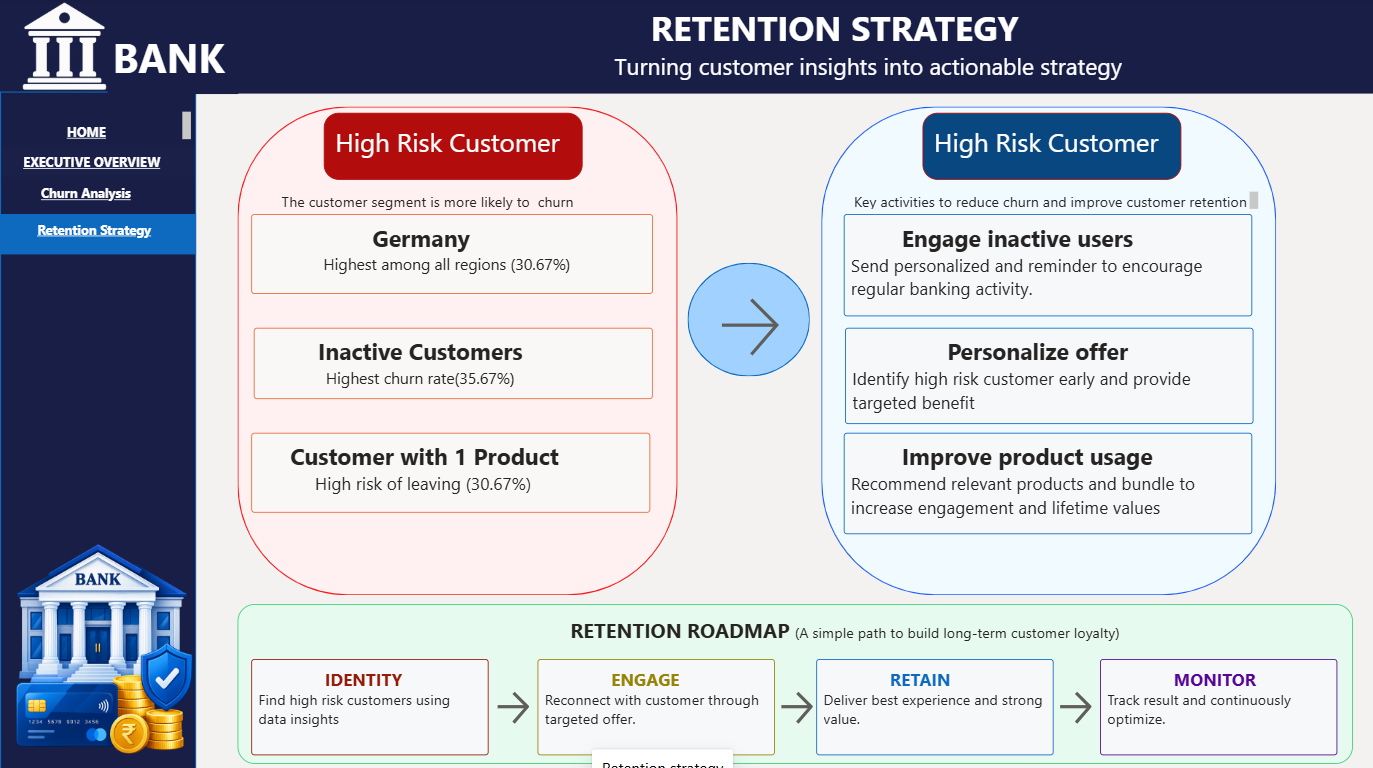

Layout of this report page (visuals, bound fields, positions):
{"tool":"powerbi","page":{"name":"Retention strategy","canvas":[1280,720],"ordinal":3},"visuals":[{"type":"textbox","box":[0,0,1280,87.7],"z":0},{"type":"shape","box":[0,86,182.6,633.7],"z":1000},{"type":"textbox","box":[99.7,24,121.3,63.6],"z":2000},{"type":"image","box":[0,0,120.1,87.7],"z":3000},{"type":"textbox","box":[0,100,182.6,37.2],"z":4000},{"type":"textbox","box":[0,137.2,182.6,29.1],"z":5000},{"type":"textbox","box":[0,166.3,182.6,33.7],"z":6000},{"type":"textbox","box":[0,200,182.6,37.2],"z":7000},{"type":"image","box":[0,459.9,190.9,260.6],"z":8000},{"type":"shape","box":[220.9,100,409.3,454.7],"z":9000},{"type":"textbox","box":[301.2,105.8,240.7,62.8],"z":10000},{"type":"textbox","box":[257,174.4,300,34.9],"z":11000},{"type":"shape","box":[764,100,423.3,454.7],"z":12000},{"type":"textbox","box":[858.1,105.8,240.7,62.8],"z":13000},{"type":"textbox","box":[774.4,174.4,401.2,25.6],"z":14000},{"type":"textbox","box":[236,305.8,370.9,66.3],"z":15000},{"type":"textbox","box":[233.7,200,373.3,74.4],"z":16000},{"type":"textbox","box":[233.7,403.5,370.9,74.4],"z":17000},{"type":"shape","box":[639.5,245.3,114,105.8],"z":18000},{"type":"actionButton","box":[664,272.1,100,66.3],"z":19000},{"type":"textbox","box":[784.9,200,380.2,95.3],"z":20000},{"type":"textbox","box":[786,305.8,380.2,89.5],"z":21000},{"type":"textbox","box":[784.9,403.5,380.2,94.2],"z":22000},{"type":"textbox","box":[220.9,562.8,1037.2,148.8],"z":23000},{"type":"textbox","box":[233.7,614,220.9,89.5],"z":24000},{"type":"actionButton","box":[457,639.5,43,39.5],"z":25000},{"type":"actionButton","box":[720.9,639.5,43,39.5],"z":26000},{"type":"actionButton","box":[980.2,639.5,43,39.5],"z":27000},{"type":"textbox","box":[759.3,614,220.9,89.5],"z":28000},{"type":"textbox","box":[1023.3,614,220.9,89.5],"z":29000},{"type":"textbox","box":[500,614,220.9,89.5],"z":30000}]}

Visuals, with their boxes on the page's 1280x720 design canvas (x1, y1, x2, y2). These are canvas units, not pixel positions in the 1373x768 screenshot, which may show the page scaled, cropped or inside an application window:
textbox: [0,0,1280,88]
shape: [0,86,183,720]
textbox: [100,24,221,88]
image: [0,0,120,88]
textbox: [0,100,183,137]
textbox: [0,137,183,166]
textbox: [0,166,183,200]
textbox: [0,200,183,237]
image: [0,460,191,720]
shape: [221,100,630,555]
textbox: [301,106,542,169]
textbox: [257,174,557,209]
shape: [764,100,1187,555]
textbox: [858,106,1099,169]
textbox: [774,174,1176,200]
textbox: [236,306,607,372]
textbox: [234,200,607,274]
textbox: [234,404,605,478]
shape: [640,245,754,351]
actionButton: [664,272,764,338]
textbox: [785,200,1165,295]
textbox: [786,306,1166,395]
textbox: [785,404,1165,498]
textbox: [221,563,1258,712]
textbox: [234,614,455,704]
actionButton: [457,640,500,679]
actionButton: [721,640,764,679]
actionButton: [980,640,1023,679]
textbox: [759,614,980,704]
textbox: [1023,614,1244,704]
textbox: [500,614,721,704]
